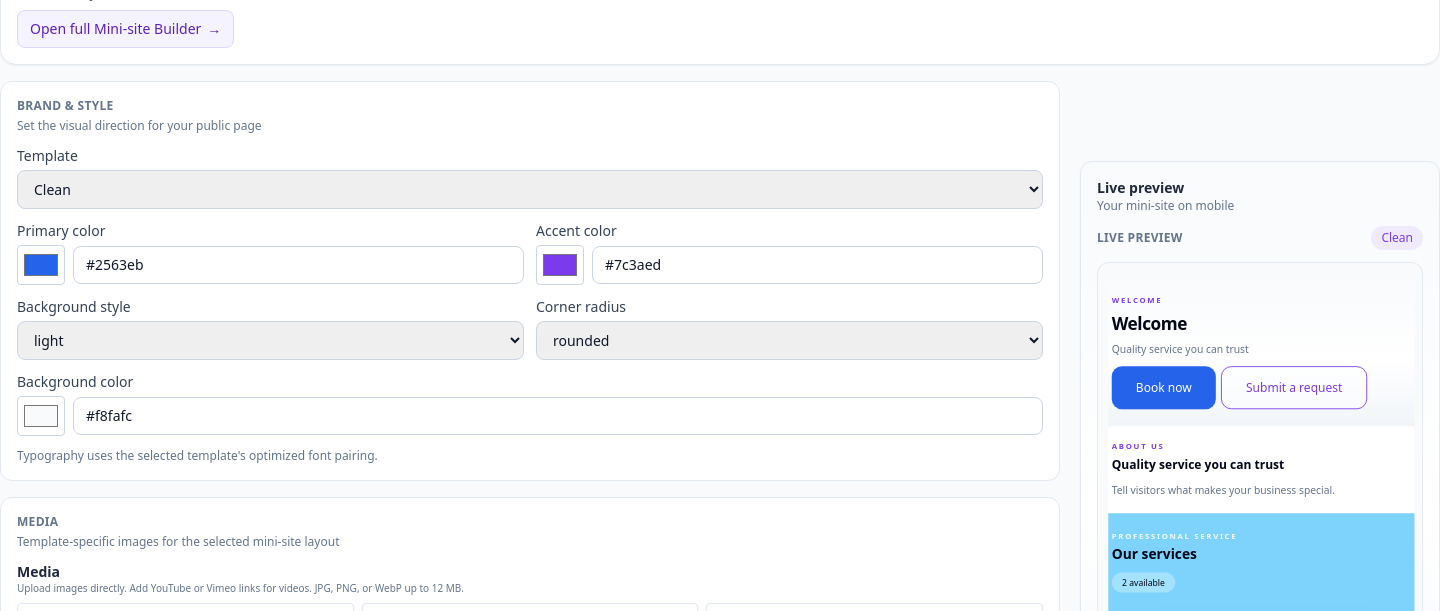
it: PublicProfileSettingsCard › shows clinic image slots when clinic template is selected
This screenshot has width=1440, height=611.
Select "Clinic" in the dropdown with test id "mini-site-template" at (530, 190), box x1=17 y1=170 x2=1043 y2=209
(page scrolled)
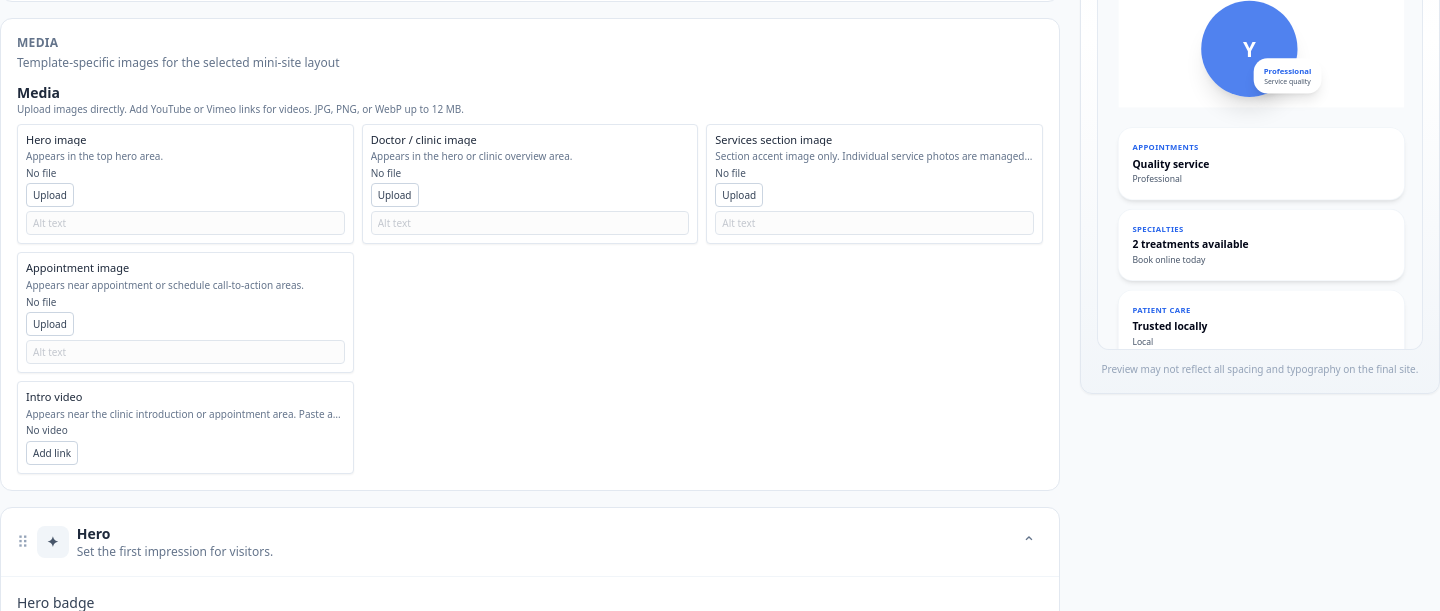
Check: the element with test id "mini-site-media-slot-heroImage" shows "Hero image", box x1=26 y1=132 x2=86 y2=146
Check: the element with test id "mini-site-media-slot-doctorOrClinicImage" shows "Doctor / clinic image", box x1=371 y1=132 x2=477 y2=146
Check: the element with test id "mini-site-media-slot-appointmentImage" shows "Appointment image", box x1=26 y1=260 x2=129 y2=275
